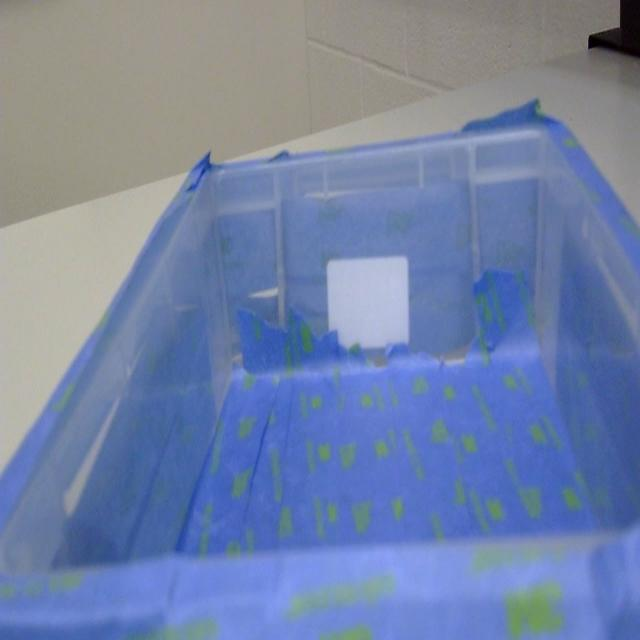bucket: (0, 90, 638, 640)
